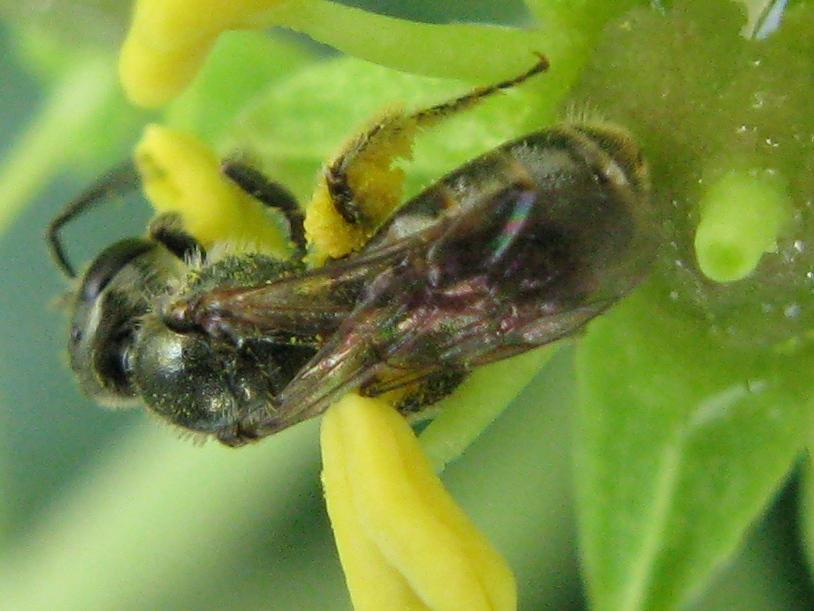Seladonia: (47, 44, 662, 487)
